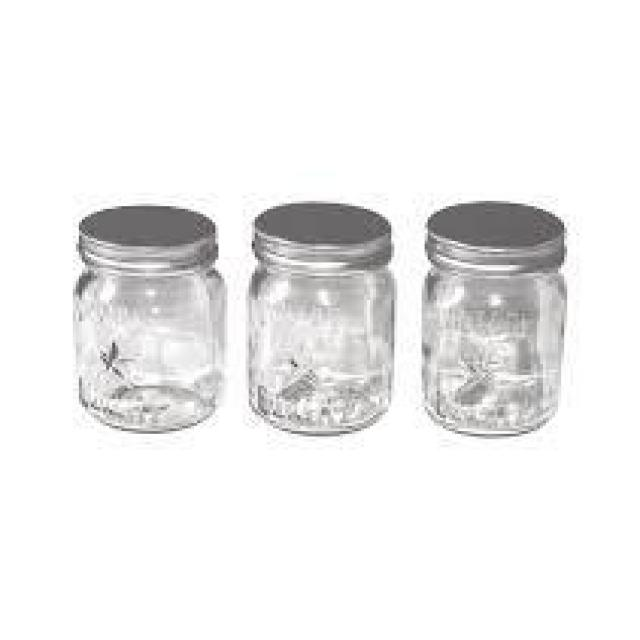non-organic waste: (64, 199, 230, 438)
